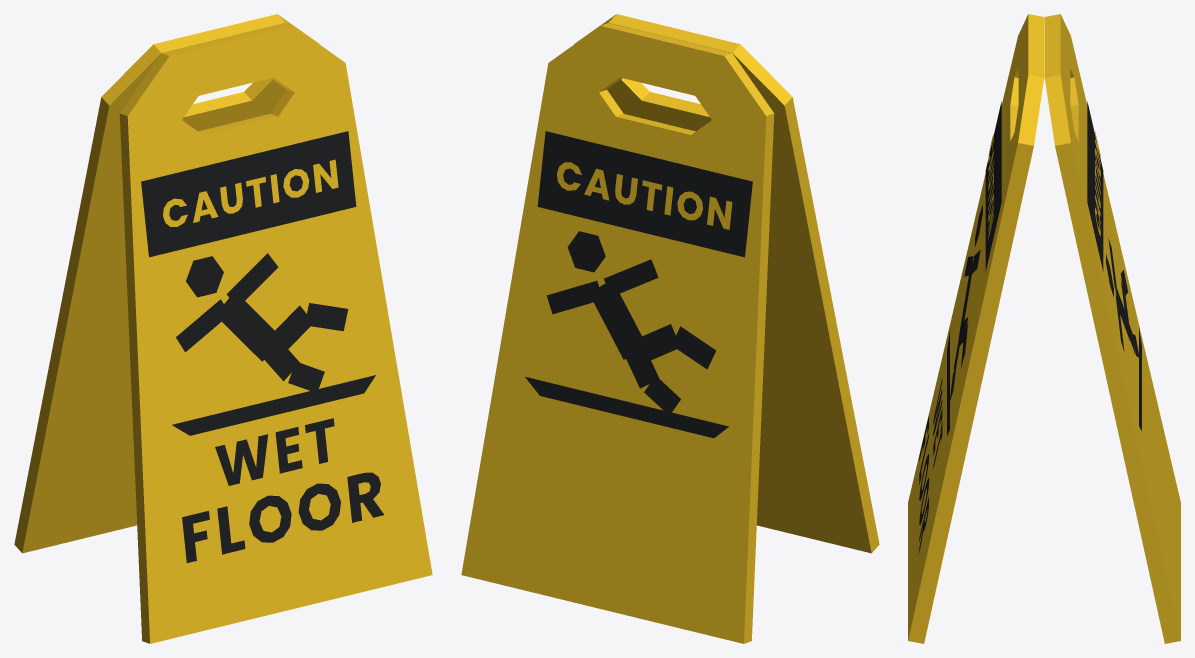
File: Shop_WetFloorSign.fbx
The picture shows the model from 3 angles, left to right: view 1: azimuth 30°, elevation 25°; view 2: azimuth 150°, elevation 25°; view 3: azimuth 270°, elevation 25°; orthographic projection.
Parts seen in each view (by area): view 1: Panels, Ink; view 2: Panels, Ink; view 3: Panels, Ink.
Boxes of the visible parts, <box> form: Panels: <box>14,14,432,643</box>; Ink: <box>141,131,384,562</box>; Panels: <box>461,14,879,643</box>; Ink: <box>525,131,752,438</box>; Panels: <box>908,14,1180,643</box>; Ink: <box>919,101,1141,552</box>.
Size of the model in its own units: 120 by 214 by 99.88.
